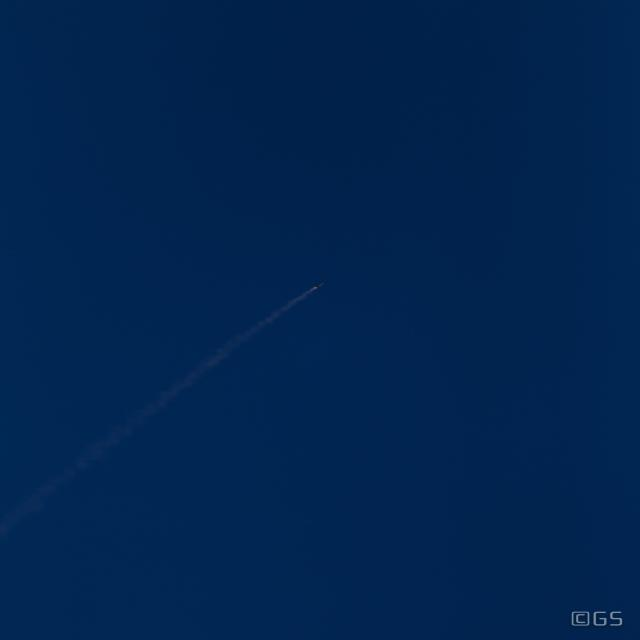Rocket: (312, 281, 325, 290)
